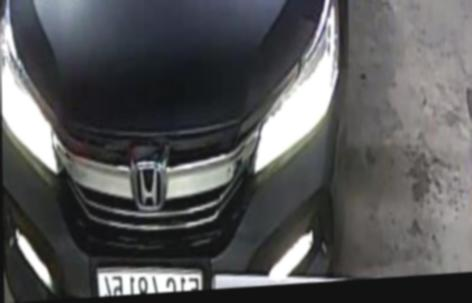License_Plate: (96, 259, 204, 296)
